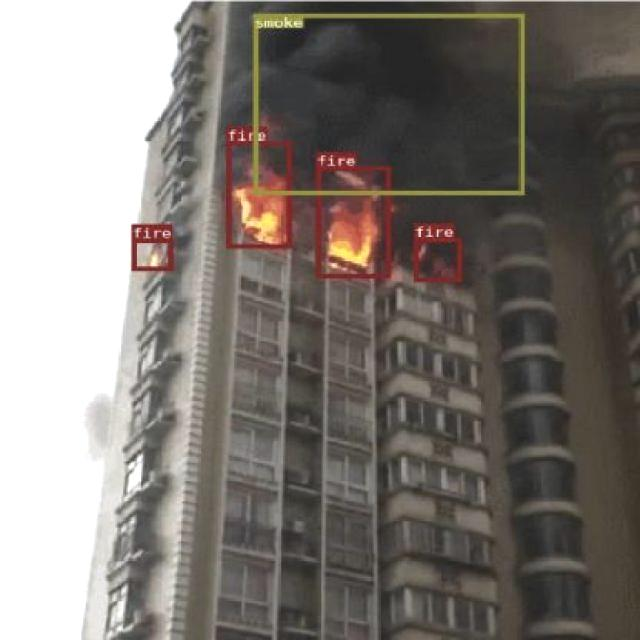fire: (316, 166, 390, 277), (226, 141, 291, 247), (413, 236, 461, 282), (130, 238, 172, 270)
smoke: (252, 12, 523, 194)
